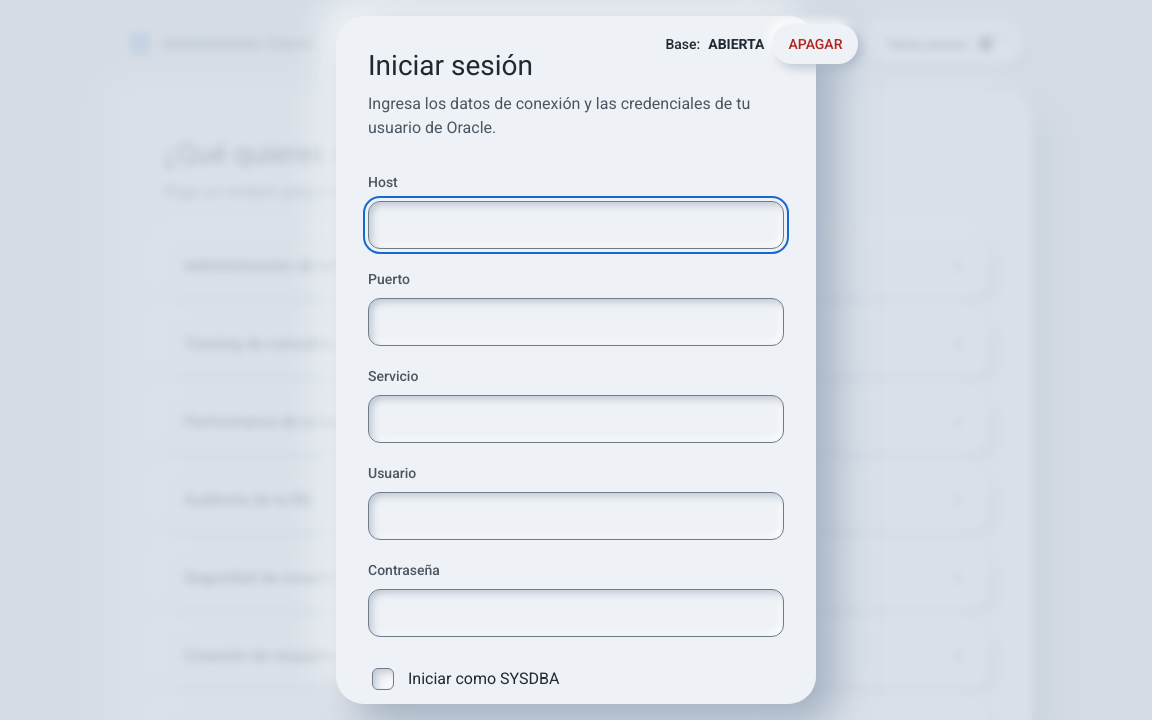
it: sin sesión › el clic en APAGAR sin sesión muestra la confirmación
Click the button "APAGAR" at (816, 44), box [772,24,858,64]
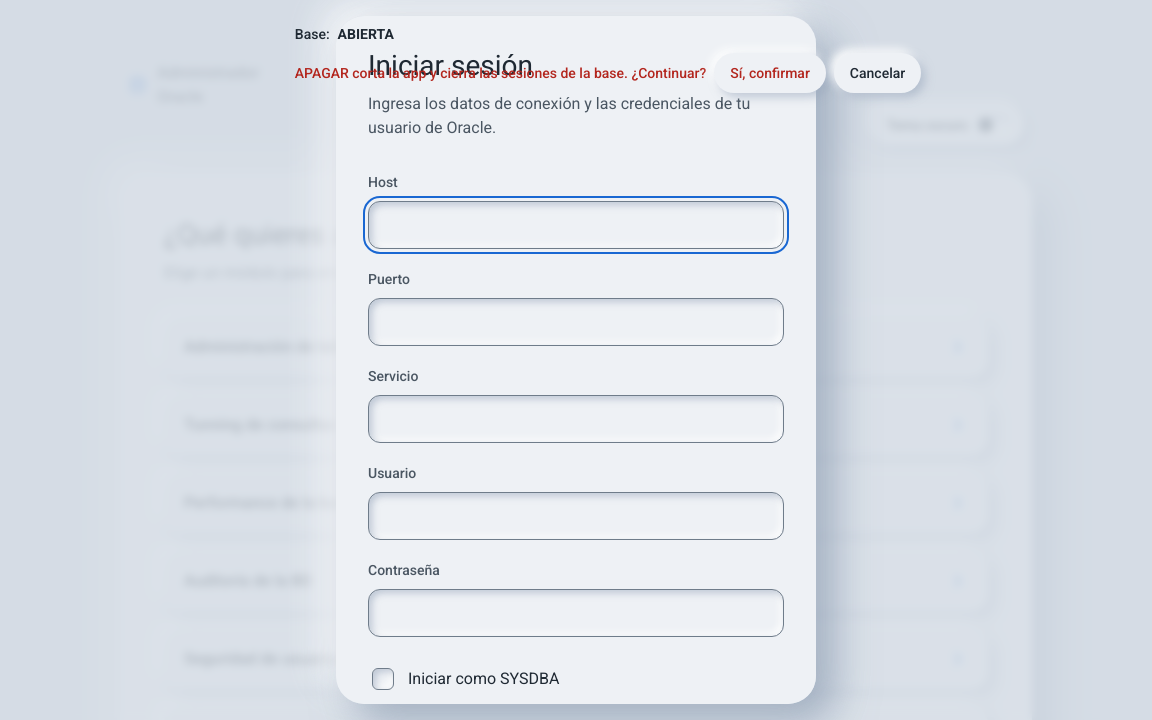
Check: the element named "APAGAR corta la app y cierra las sesiones de la base. ¿Conti" shows "corta la app", box [295,64,706,80]
